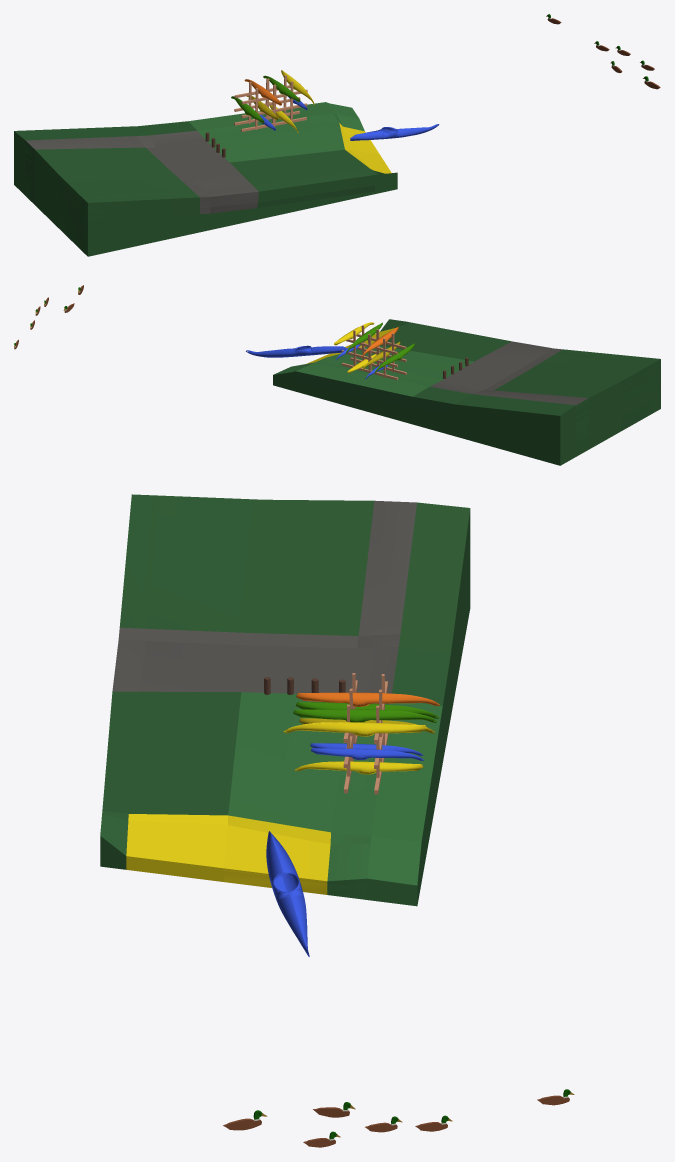
Rendered from intlittlemagothypark.glb.
3 views of the same model, one above another, from view 1: azimuth 30°, elevation 25°; view 2: azimuth 150°, elevation 25°; view 3: azimuth 270°, elevation 25° (orthographic). The views are drawn at different scales.
Parts seen in each view (by area): view 1: little_magothy_park_grass, little_magothy_kayak_rack, little_magothy_kayak_rack.001; view 2: little_magothy_park_grass, little_magothy_kayak_rack, little_magothy_kayak_rack.001; view 3: little_magothy_park_grass, little_magothy_kayak_rack, little_magothy_kayak_rack.001.
Boxes of the visible parts, <box> form: little_magothy_park_grass: <box>14,102,397,256</box>; little_magothy_kayak_rack: <box>231,70,314,132</box>; little_magothy_kayak_rack.001: <box>350,124,439,140</box>; little_magothy_park_grass: <box>273,319,660,465</box>; little_magothy_kayak_rack: <box>334,322,415,379</box>; little_magothy_kayak_rack.001: <box>246,345,346,357</box>; little_magothy_park_grass: <box>100,494,470,906</box>; little_magothy_kayak_rack: <box>283,673,439,794</box>; little_magothy_kayak_rack.001: <box>266,831,309,956</box>.
Size of the model in its own units: 0.3218 by 0.0363 by 0.1161.
